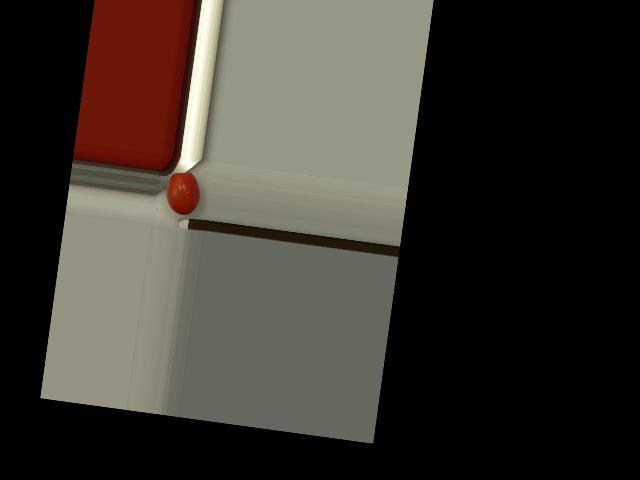tomato: (163, 169, 203, 216)
